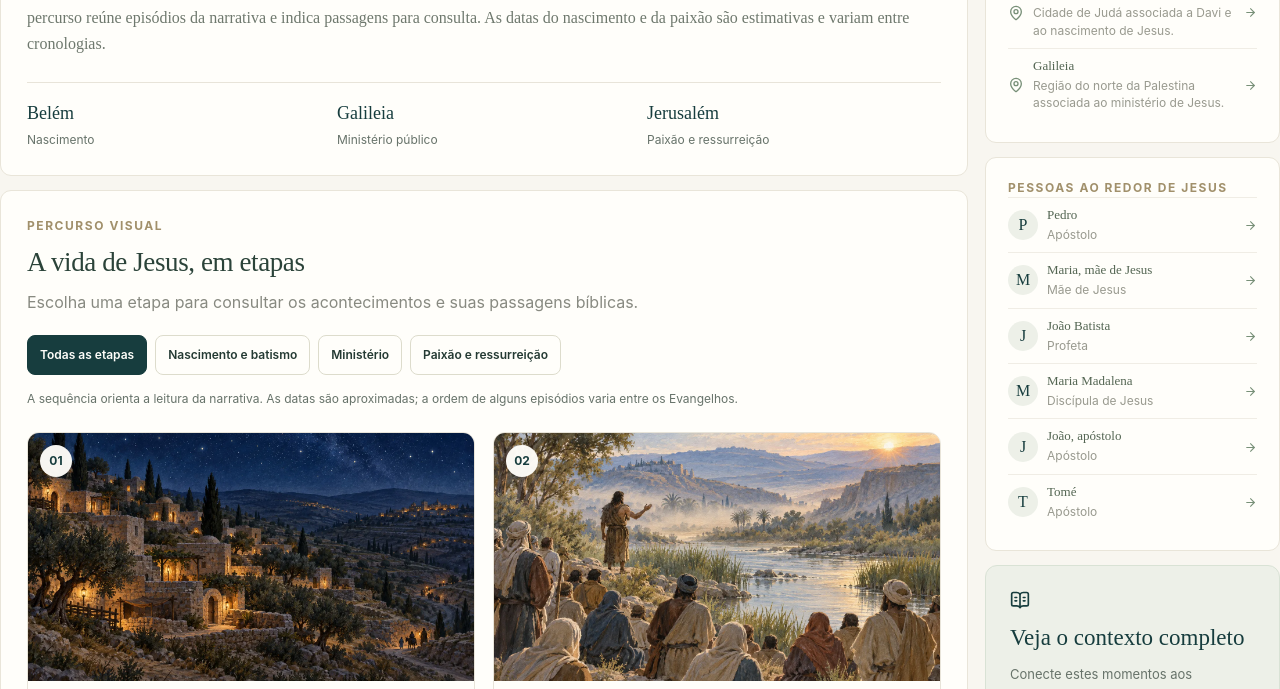
Scenario: consulta da vida de Jesus › filtra as etapas, restaura o percurso e oferece os quatro Evangelhos
(page scrolled)
What coordinates should you click on to do the following:
click the button "Ministério"
I would click on:
 (360, 356)
Its box is [318,336,402,376].
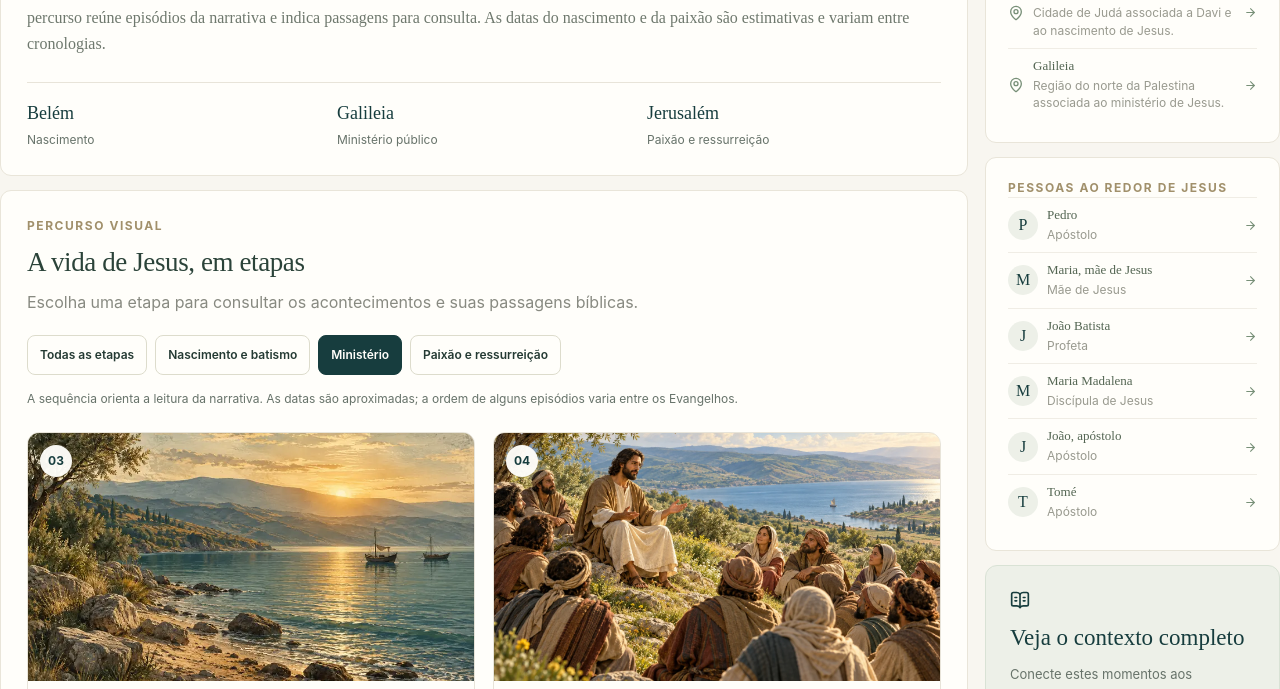
Check: the button "Ministério" is pressed, box [318,336,402,376]
What coordinates should you click on to do the following:
click the button "Paixão e ressurreição"
I would click on:
 (486, 356)
Its box is [410,336,561,376].
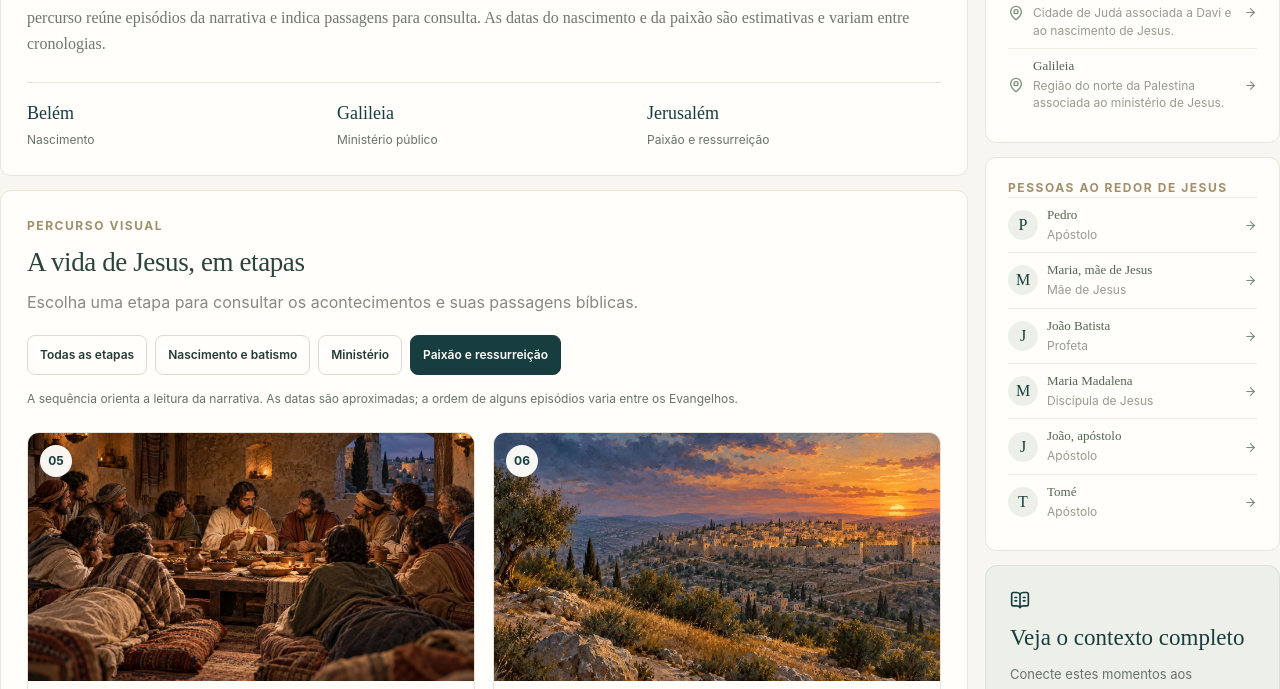
Check: the number of elements with class "jesus-moment-card" is 4
What coordinates should you click on to do the following:
click the button "Todas as etapas"
I would click on:
 (87, 356)
Its box is [27,336,147,376].
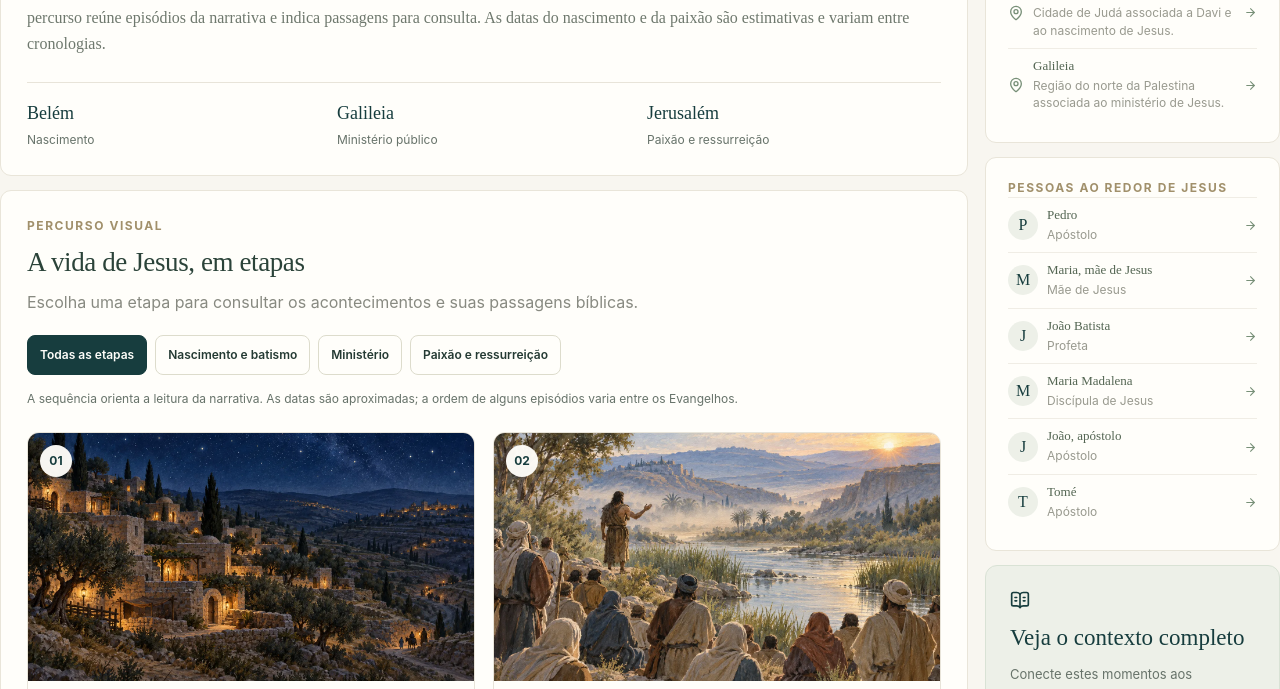
Check: the number of elements with class "jesus-moment-card" is 8
